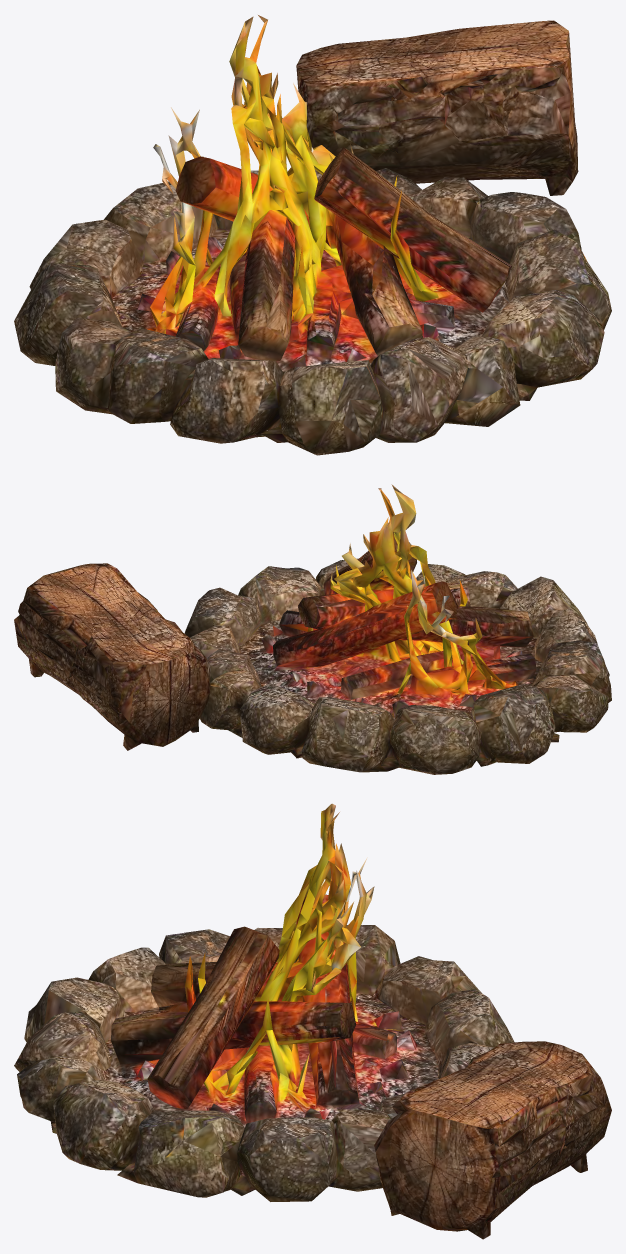
Rendered from fogueira.glb.
3 renders of one model, top to bottom at view 1: azimuth 30°, elevation 25°; view 2: azimuth 150°, elevation 25°; view 3: azimuth 270°, elevation 25°, orthographic. The views are drawn at different scales.
Visible parts, largest first — view 1: fogueira; view 2: fogueira; view 3: fogueira.
Boxes of the visible parts, bbox=[...] form: fogueira: bbox=[14, 15, 611, 455]; fogueira: bbox=[14, 484, 611, 774]; fogueira: bbox=[14, 803, 611, 1239].
Size of the model in its own units: 1.99 by 0.9 by 1.76.
1 material, 1 textured.
